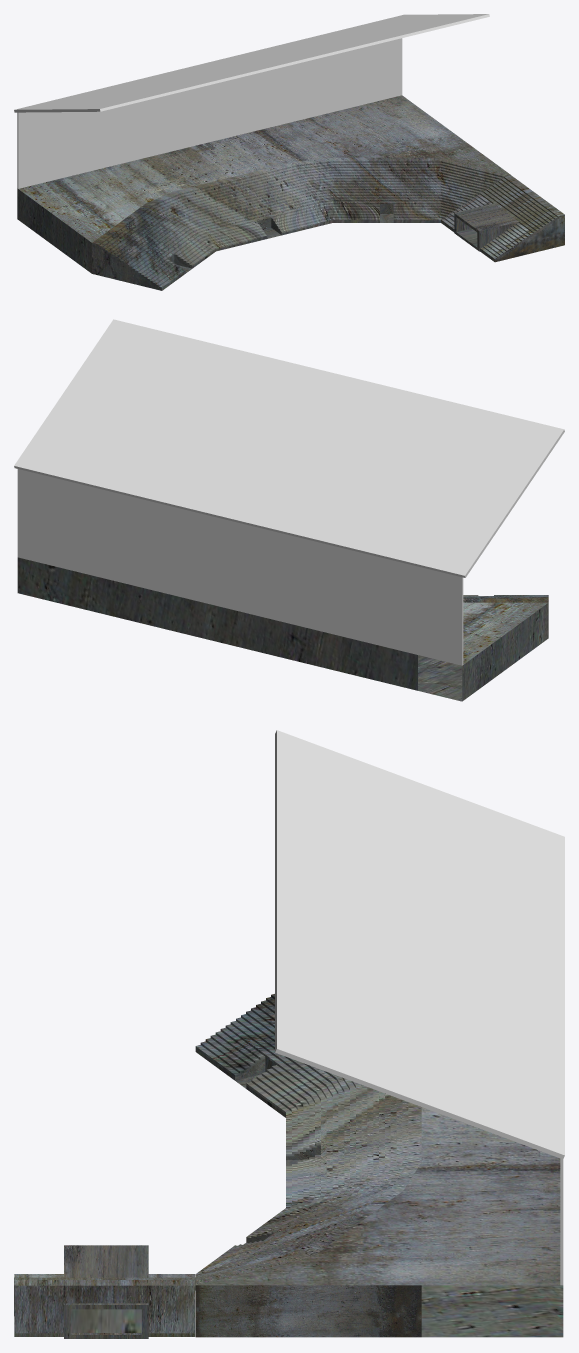
The model's file is GrandStand_0807.fbx.
3 renders of one model, top to bottom at view 1: azimuth 30°, elevation 25°; view 2: azimuth 150°, elevation 25°; view 3: azimuth 270°, elevation 25°, orthographic. The views are drawn at different scales.
Visible parts, largest first — view 1: BigStair_body, Wall, BigStair_body_cover, Celiing, BigStair_Entrance, BigStair_door; view 2: Celiing, Wall, BigStair_body, BigStair_body_cover; view 3: Celiing, BigStair_body, BigStair_body_cover, BigStair_Entrance, BigStair_door.
Part boxes in pixels (<box>): BigStair_body: <box>17,157,510,290</box>; Wall: <box>17,38,402,188</box>; BigStair_body_cover: <box>19,95,510,242</box>; Celiing: <box>14,14,489,112</box>; BigStair_Entrance: <box>441,175,564,262</box>; BigStair_door: <box>168,204,393,273</box>; Celiing: <box>14,319,564,577</box>; Wall: <box>17,469,463,665</box>; BigStair_body: <box>17,557,548,701</box>; BigStair_body_cover: <box>463,602,547,664</box>; Celiing: <box>275,730,564,1159</box>; BigStair_body: <box>195,994,563,1337</box>; BigStair_body_cover: <box>197,1107,560,1285</box>; BigStair_Entrance: <box>14,1245,195,1338</box>; BigStair_door: <box>235,1057,320,1243</box>.
Size of the model in its own units: 16000 by 6808 by 11689.
